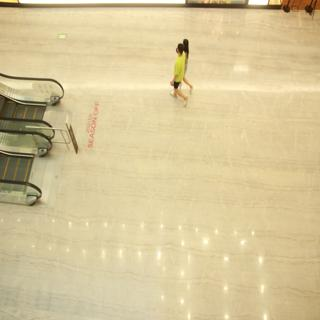person: (169, 37, 196, 107)
